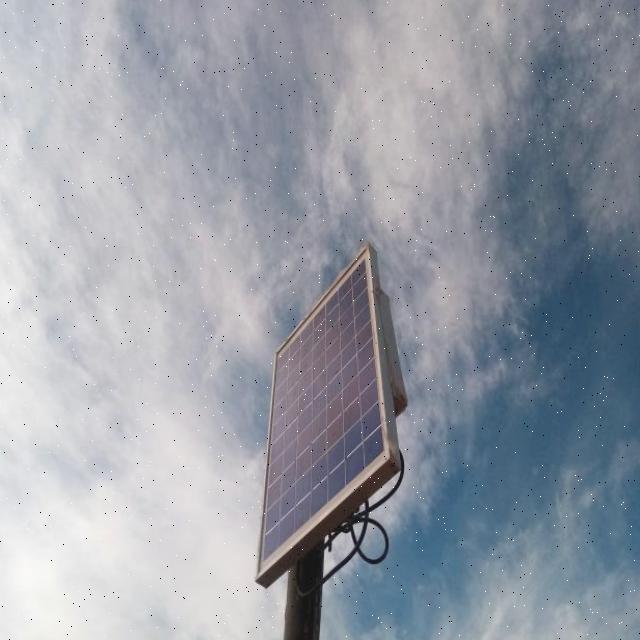Normal Solar Panel: (256, 243, 389, 577)
